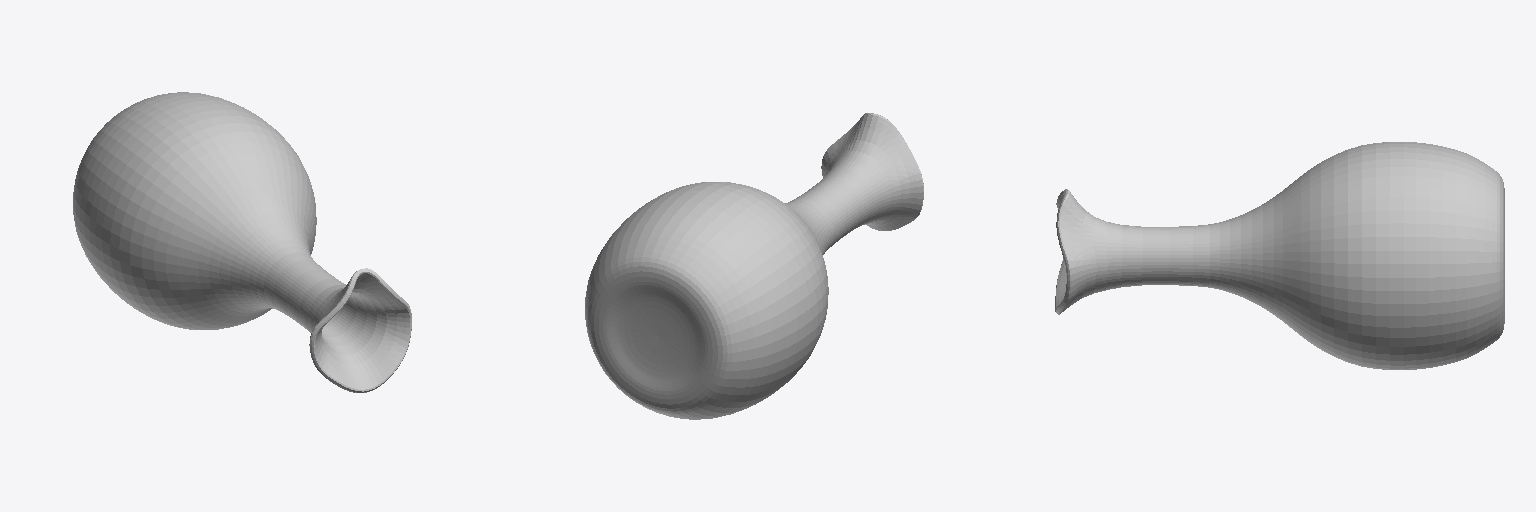
Rendered from smooth_vase.obj.
The picture shows the model from 3 angles: view 1: azimuth 30°, elevation 25°; view 2: azimuth 150°, elevation 25°; view 3: azimuth 270°, elevation 25°; orthographic projection.
Visible parts, largest first — view 1: ceramic_vase_01_Cylinder.009; view 2: ceramic_vase_01_Cylinder.009; view 3: ceramic_vase_01_Cylinder.009.
Part boxes in pixels (x1,y1,x2,y2): ceramic_vase_01_Cylinder.009: (73,92,411,392); ceramic_vase_01_Cylinder.009: (585,113,923,419); ceramic_vase_01_Cylinder.009: (1055,142,1504,369).
Size of the model in its own units: 0.2036 by 0.2036 by 0.4003.